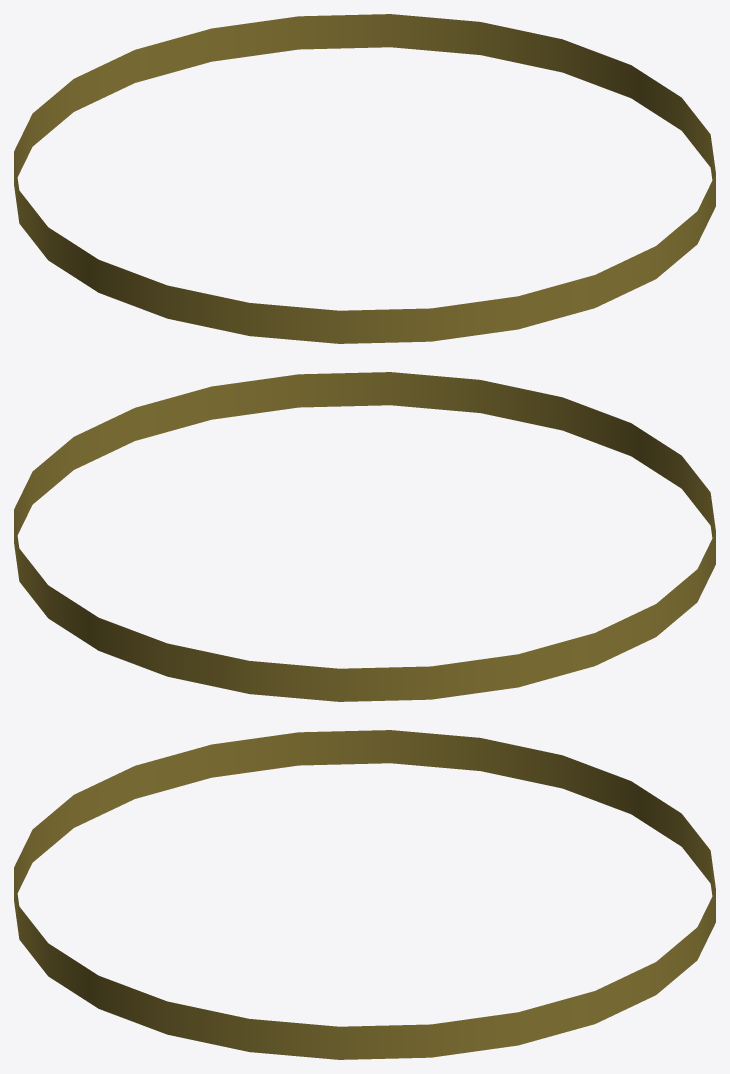
The model's file is original-21.obj.
3 views of the same model, one above another, from view 1: azimuth 30°, elevation 25°; view 2: azimuth 150°, elevation 25°; view 3: azimuth 270°, elevation 25° (orthographic).
Parts seen in each view (by area): view 1: #ID109; view 2: #ID109; view 3: #ID109.
Part boxes in pixels (<box>): #ID109: <box>14,14,715,343</box>; #ID109: <box>14,372,715,701</box>; #ID109: <box>14,730,715,1059</box>.
Size of the model in its own units: 0.0827 by 0.00432 by 0.0827.
